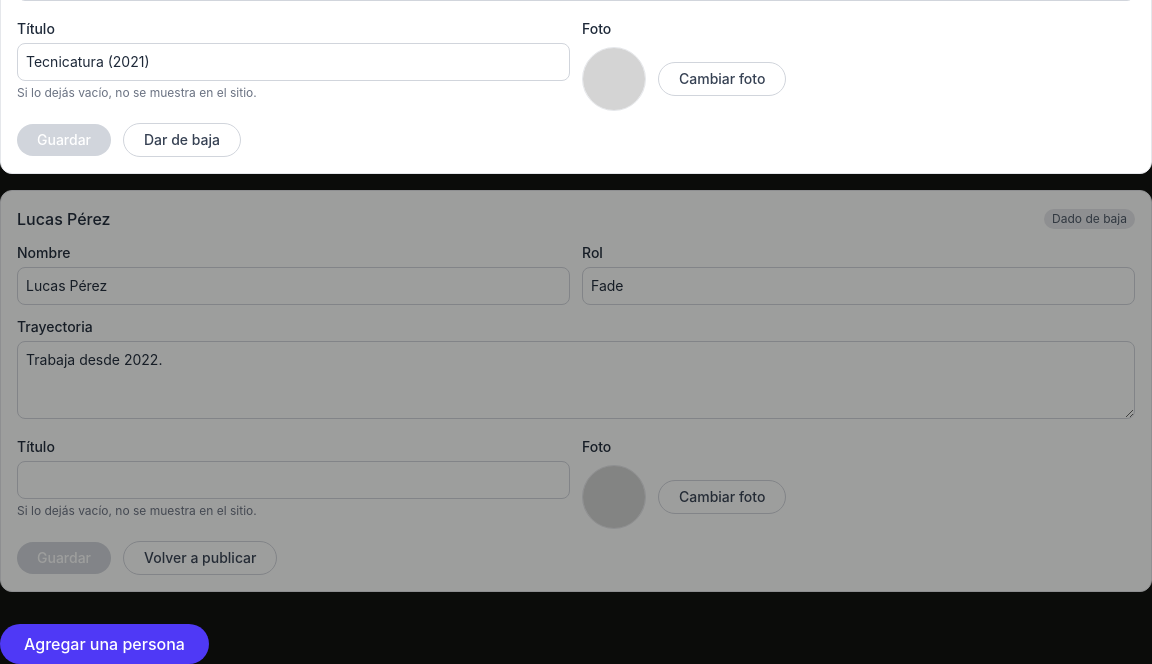
Test: SeccionStaffComponent › dar de baja y volver a publicar › volver a publicar manda activo en true y vuelve a ofrecer la baja
The width and height of the screenshot is (1152, 664).
(page scrolled)
Click the button "Volver a publicar" at point(200, 558), box [123,541,278,575]
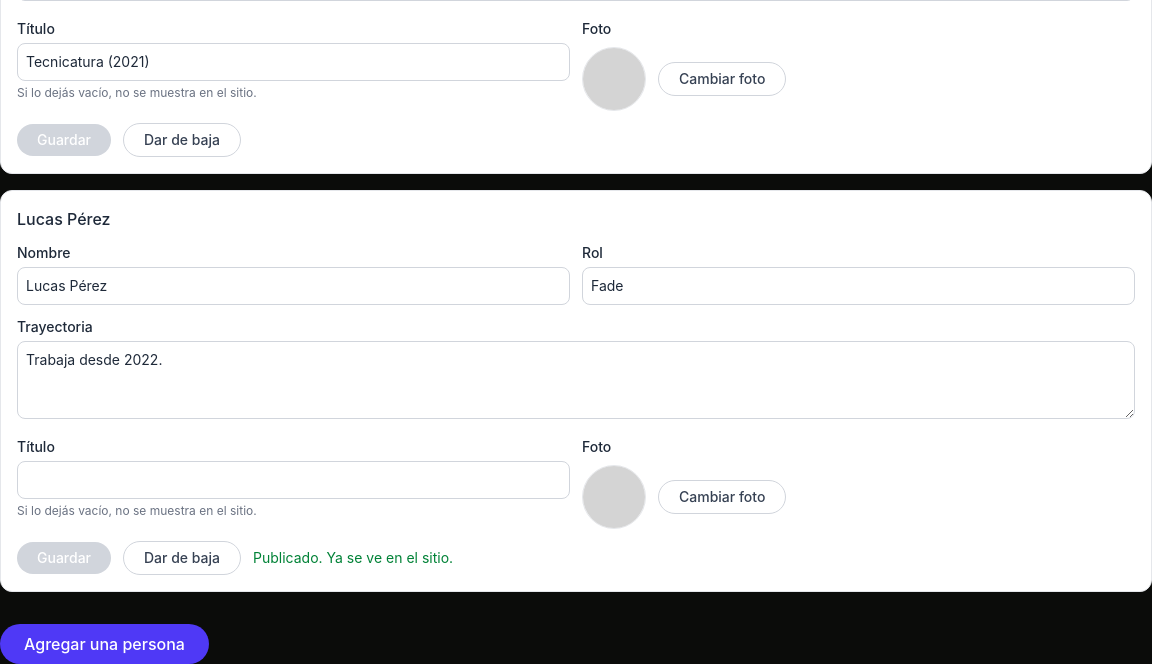
Expected: the button "Dar de baja" next to "Publicado. Ya se ve en el sitio." is shown, [123,541,241,575]
Now the text "Dado de baja" is gone
Now the list item that starts with "Lucas Pérez" shows "Publicado. Ya se ve en el sitio.", box [253,549,453,566]
